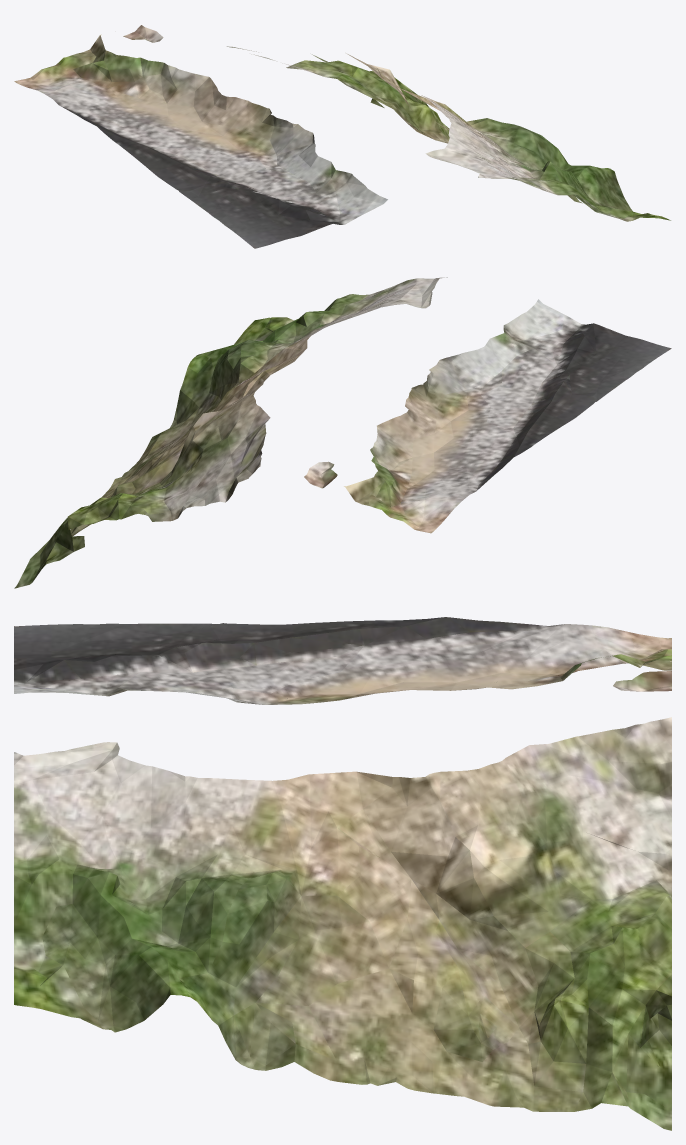
3 renders of one model, top to bottom at view 1: azimuth 30°, elevation 25°; view 2: azimuth 150°, elevation 25°; view 3: azimuth 270°, elevation 25°, orthographic. The views are drawn at different scales.
Size of the model in its own units: 2.95 by 1.23 by 2.95.
Materials: 2 (2 with a texture image).
